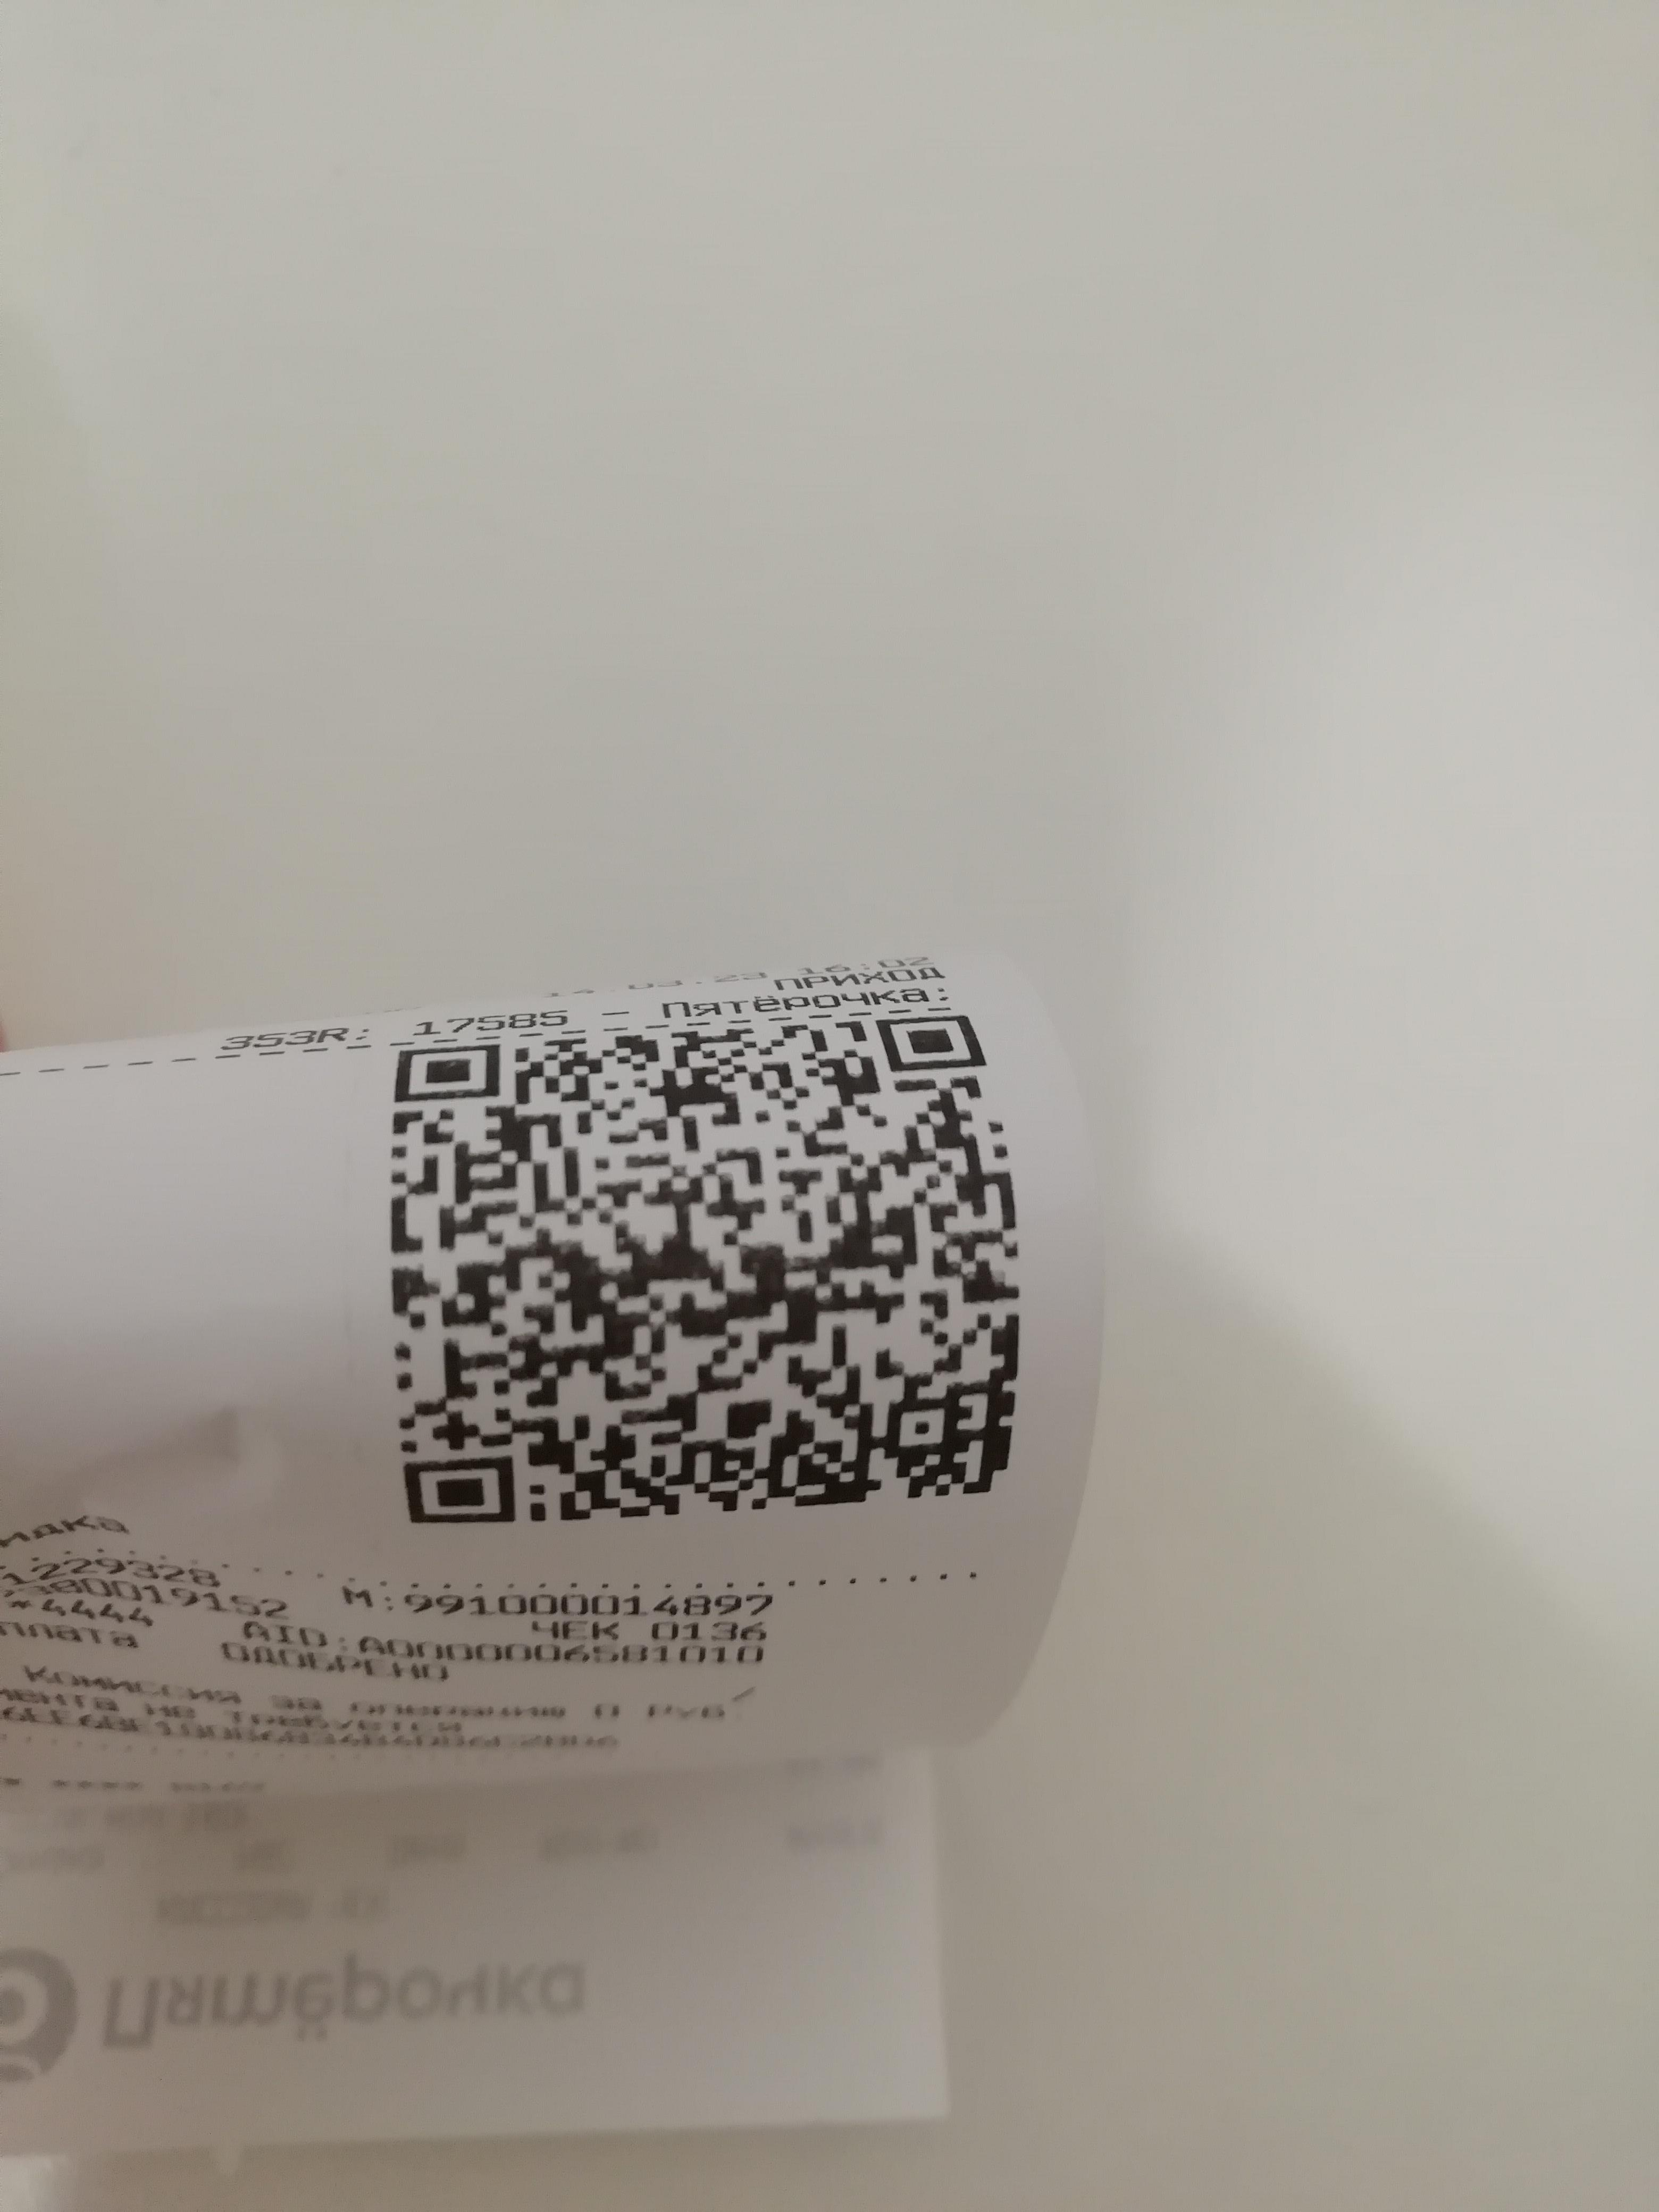qrcode: (389, 1014, 1025, 1533)
